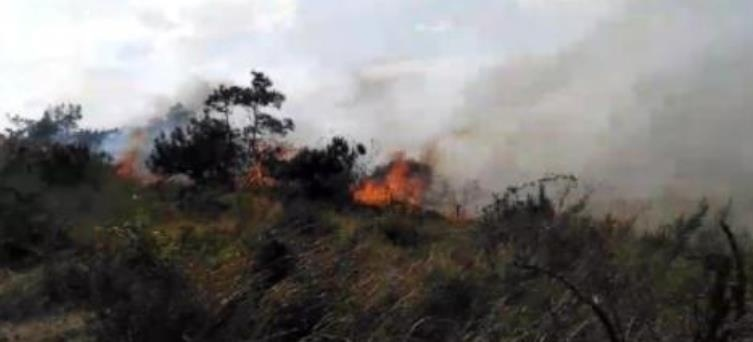fire: (344, 148, 435, 210), (241, 139, 297, 182)
